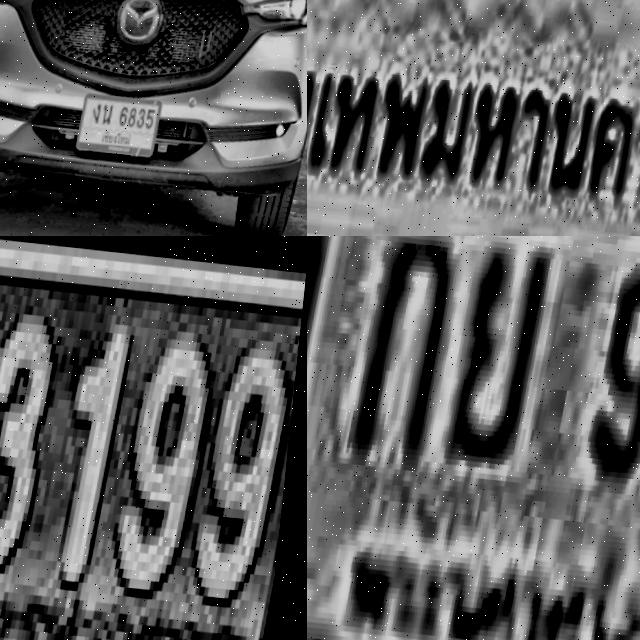license-plate: (307, 236, 640, 640), (0, 236, 307, 640), (307, 0, 640, 236), (82, 89, 175, 160)
